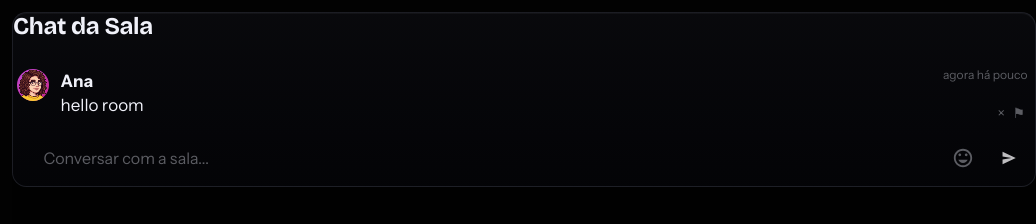
Test case: ChatPanel › shows the server error inline when the delete is rejected
The image size is (1036, 224).
Step 1. Click the button named "apagar mensagem de ana" → x=1001, y=113, box [994,106,1009,120]
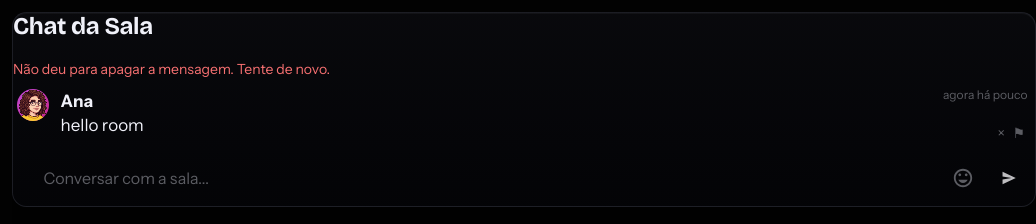
Expected: the message reads "Não deu para apagar a mensagem. Tente de novo.", [13,60,330,78]
